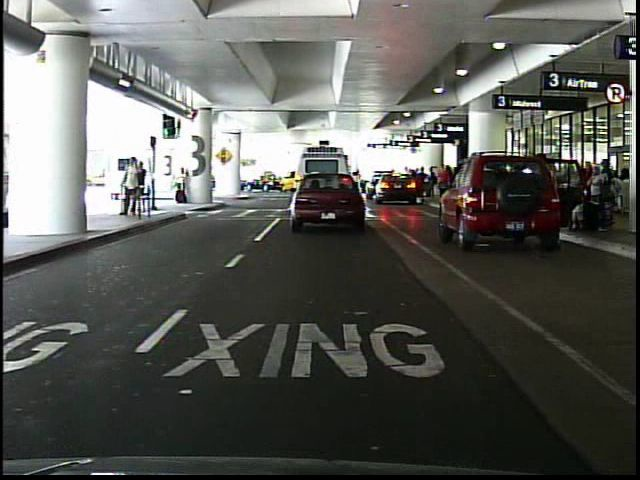person: (530, 151, 563, 234), (119, 153, 142, 222), (136, 160, 153, 219), (172, 168, 192, 209), (436, 164, 453, 202)
